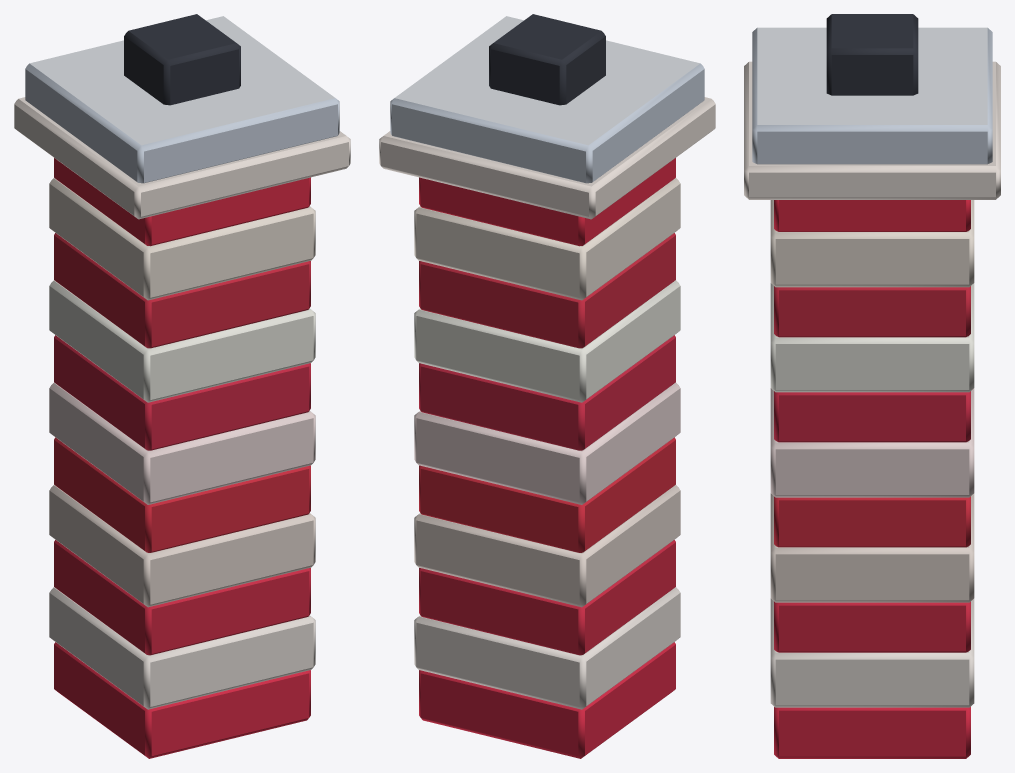
The model's file is CandyHouse_Butter_Chimney.glb.
The picture shows the model from 3 angles, left to right: view 1: azimuth 30°, elevation 25°; view 2: azimuth 150°, elevation 25°; view 3: azimuth 270°, elevation 25°; orthographic projection. The views are drawn at different scales.
Parts seen in each view (by area): view 1: CandyHouse_Butter_Chimney; view 2: CandyHouse_Butter_Chimney; view 3: CandyHouse_Butter_Chimney.
Boxes of the visible parts, <box> form: CandyHouse_Butter_Chimney: <box>14,14,350,758</box>; CandyHouse_Butter_Chimney: <box>379,14,715,758</box>; CandyHouse_Butter_Chimney: <box>744,14,1000,758</box>.
Bounding box in the file's own units: 3.1 × 9.16 × 3.1.
